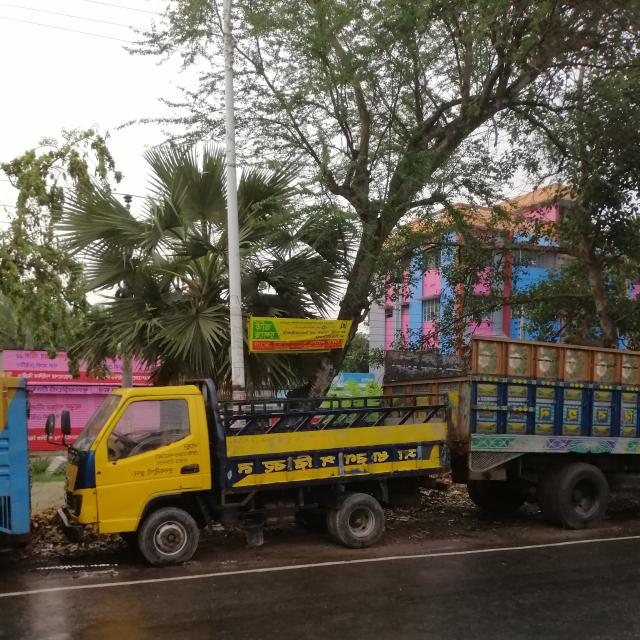Truck: (44, 378, 456, 573), (377, 337, 640, 534)
